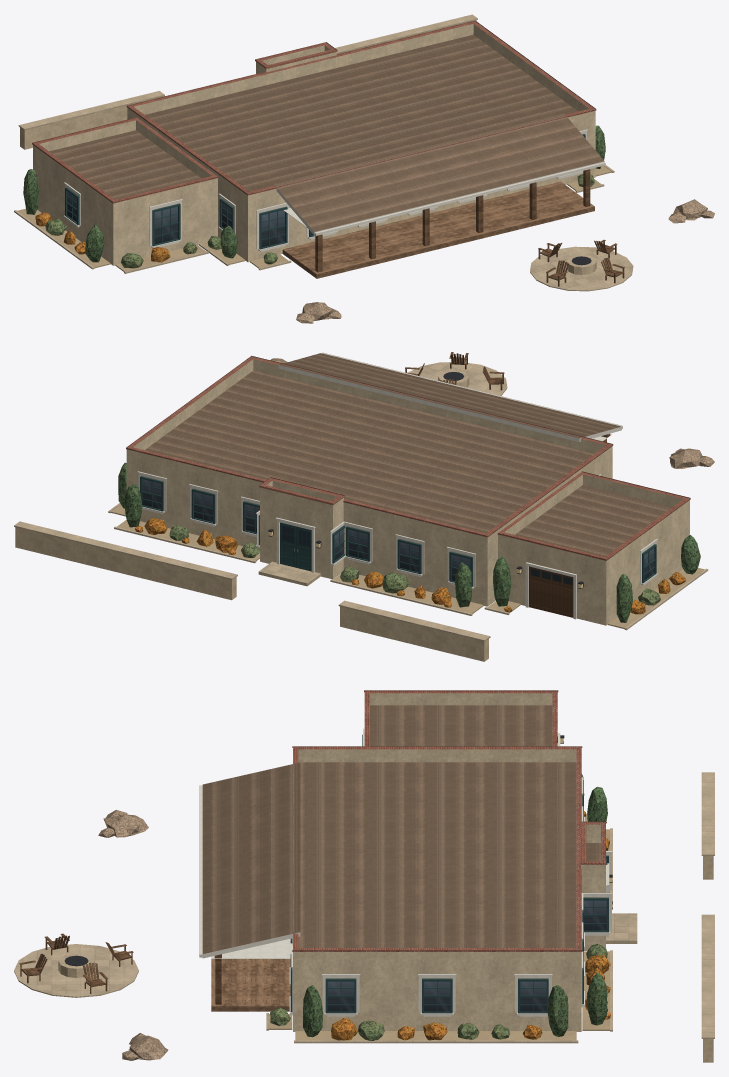
The model's file is desert_territorial.fbx.
3 renders of one model, top to bottom at view 1: azimuth 30°, elevation 25°; view 2: azimuth 150°, elevation 25°; view 3: azimuth 270°, elevation 25°, orthographic. The views are drawn at different scales.
Parts seen in each view (by area): view 1: desert_territorial_LOD0; view 2: desert_territorial_LOD0; view 3: desert_territorial_LOD0.
Boxes of the visible parts, x1,y1,x2,y2 form: desert_territorial_LOD0: [14, 14, 714, 323]; desert_territorial_LOD0: [14, 352, 714, 661]; desert_territorial_LOD0: [14, 690, 714, 1062].
Size of what is drawn, in the model's own units: 30.17 by 4.05 by 29.15.
2 materials, 2 textured.
